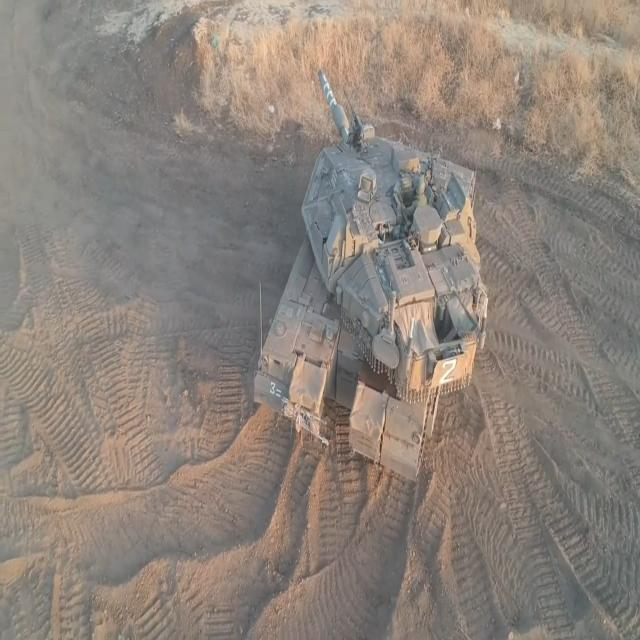tank: (249, 47, 477, 493)
